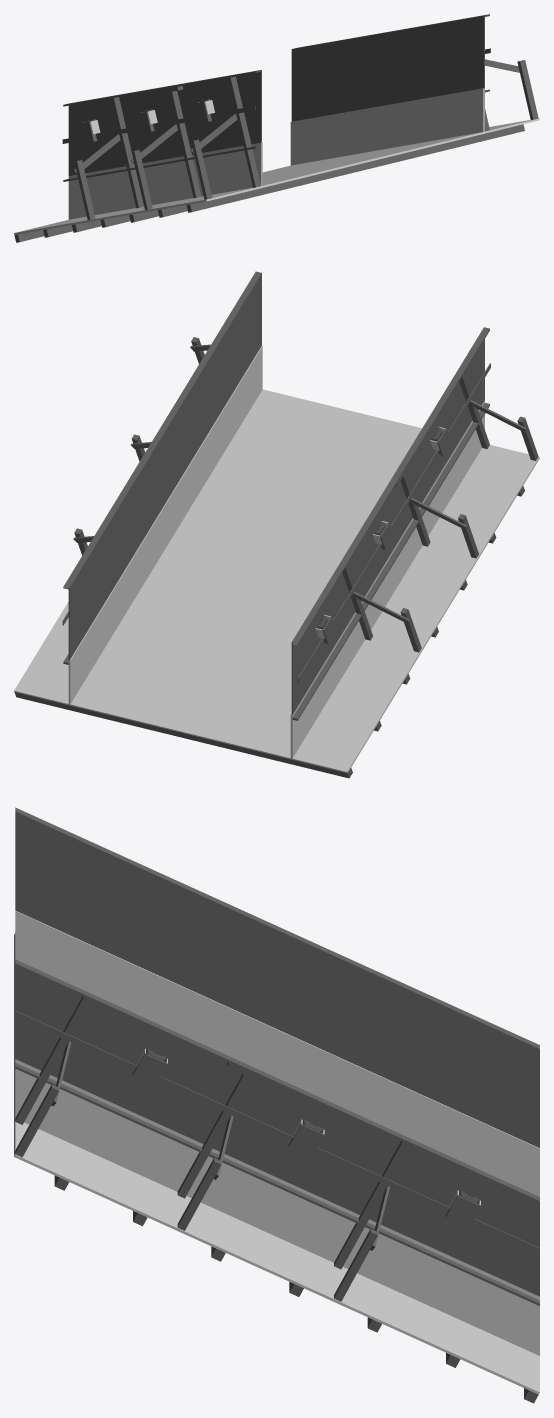
The model's file is wood_slope_384x192.fbx.
3 views of the same model, one above another, from view 1: azimuth 30°, elevation 25°; view 2: azimuth 150°, elevation 25°; view 3: azimuth 270°, elevation 25° (orthographic). The views are drawn at different scales.
Parts seen in each view (by area): view 1: wood_slope_384x192; view 2: wood_slope_384x192; view 3: wood_slope_384x192.
Part boxes in pixels (x1,y1,x2,y2): wood_slope_384x192: [14, 14, 539, 242]; wood_slope_384x192: [14, 271, 539, 778]; wood_slope_384x192: [14, 807, 539, 1403].
Bounding box in the file's own units: 386 × 329 × 385.
